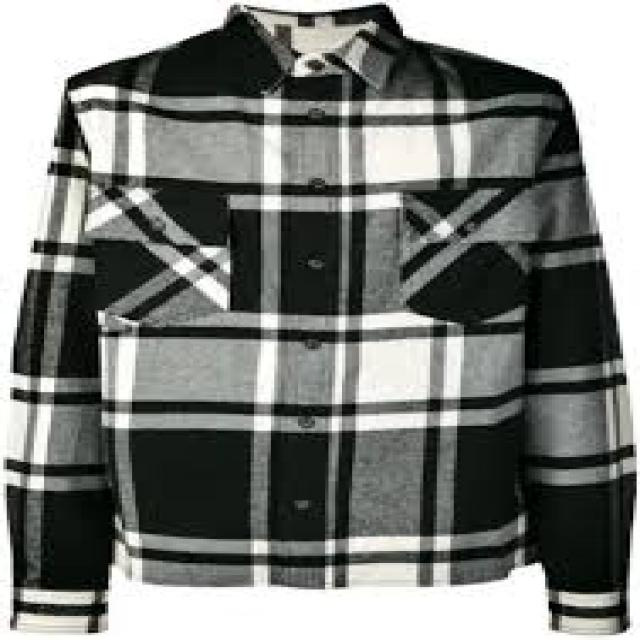plaid: (16, 9, 624, 638)
